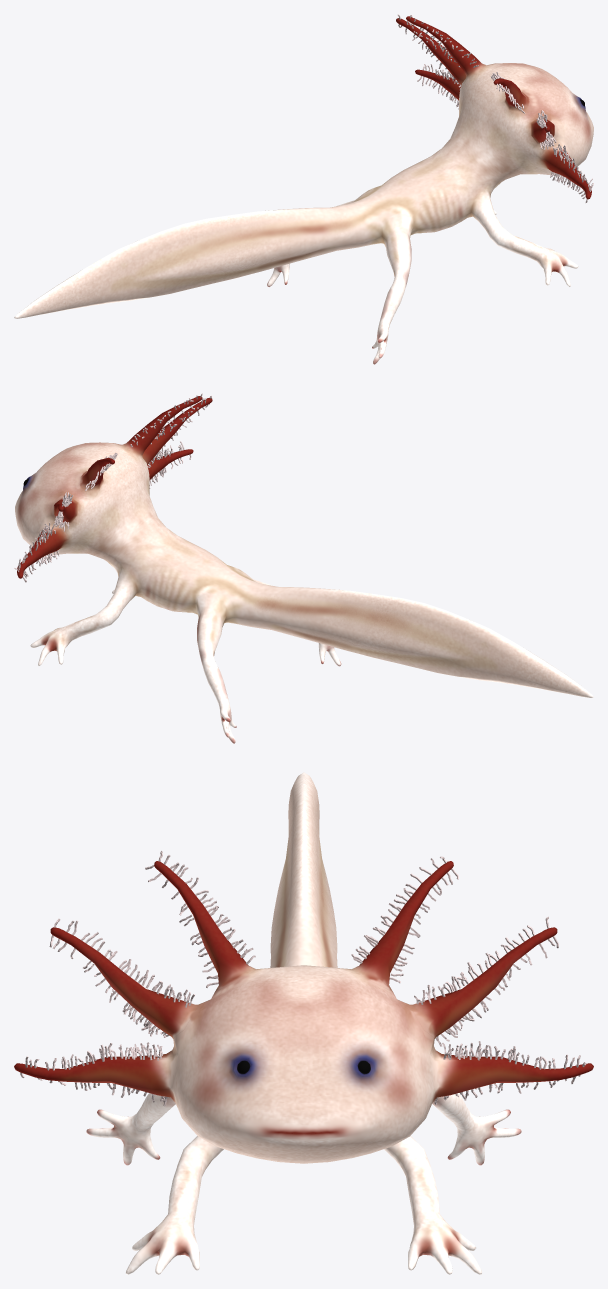
File: axolotl.glb
The picture shows the model from 3 angles, top to bottom: view 1: azimuth 30°, elevation 25°; view 2: azimuth 150°, elevation 25°; view 3: azimuth 270°, elevation 25°; orthographic projection. The views are drawn at different scales.
Visible parts, largest first — view 1: axl_low, Curves; view 2: axl_low, Curves; view 3: axl_low, Curves.
Part boxes in pixels (left/top/right/bottom): axl_low: left=14, top=16, right=593, bottom=364; Curves: left=397, top=14, right=593, bottom=202; axl_low: left=15, top=396, right=593, bottom=743; Curves: left=14, top=393, right=211, bottom=582; axl_low: left=14, top=772, right=593, bottom=1274; Curves: left=20, top=851, right=586, bottom=1106.
Size of the model in its own units: 0.4859 by 0.2039 by 0.2563.
2 materials, 1 textured.
